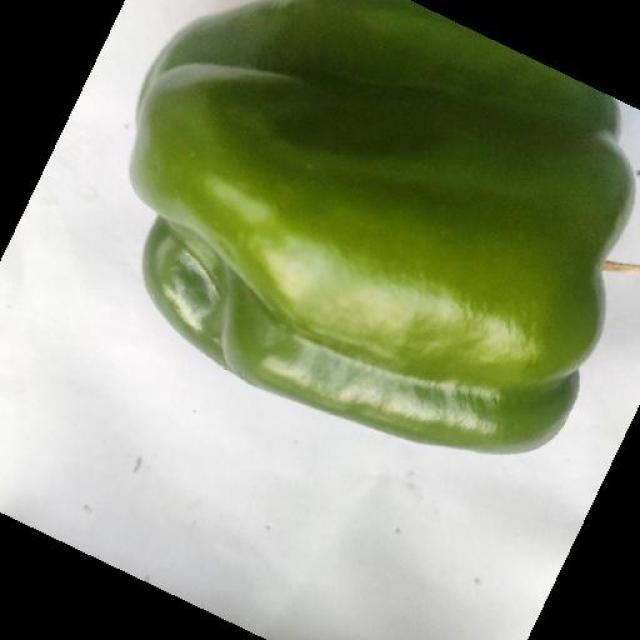Fresh_Capsicum: (96, 28, 609, 446)
